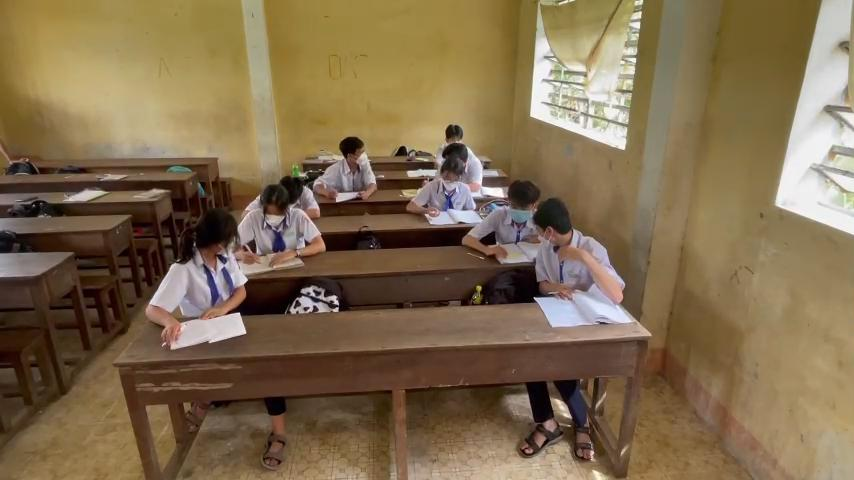Hand Under Table: (458, 183, 478, 216)
Look Around: (175, 205, 243, 274), (523, 195, 578, 249), (328, 129, 373, 171)
Wave: (548, 242, 628, 306)
